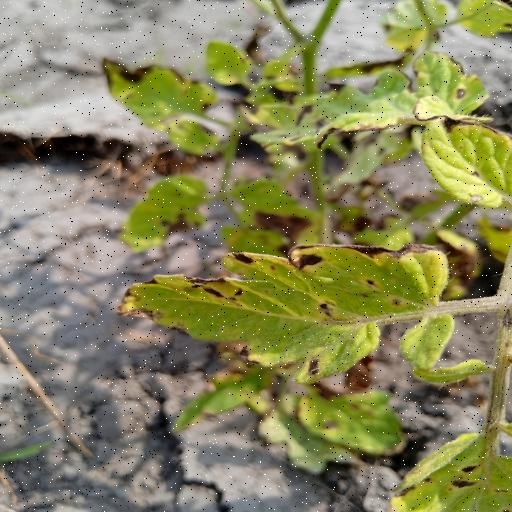Tomato_Brown_Spots: (115, 239, 450, 386)
